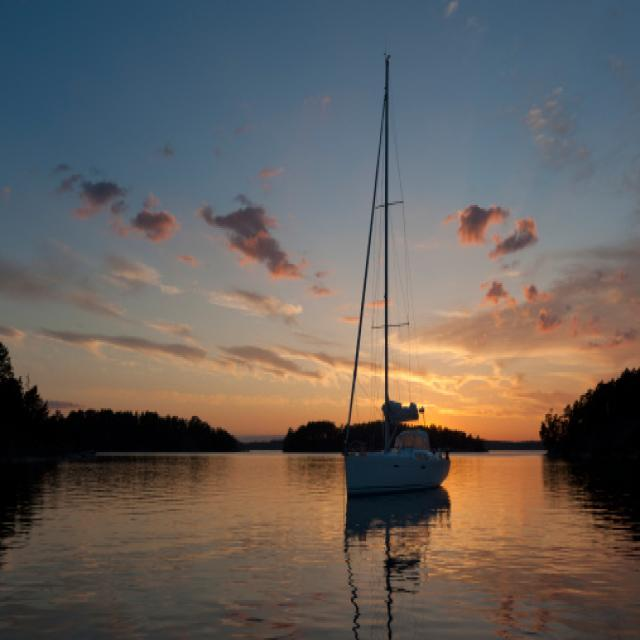Boat: (293, 53, 474, 540)
